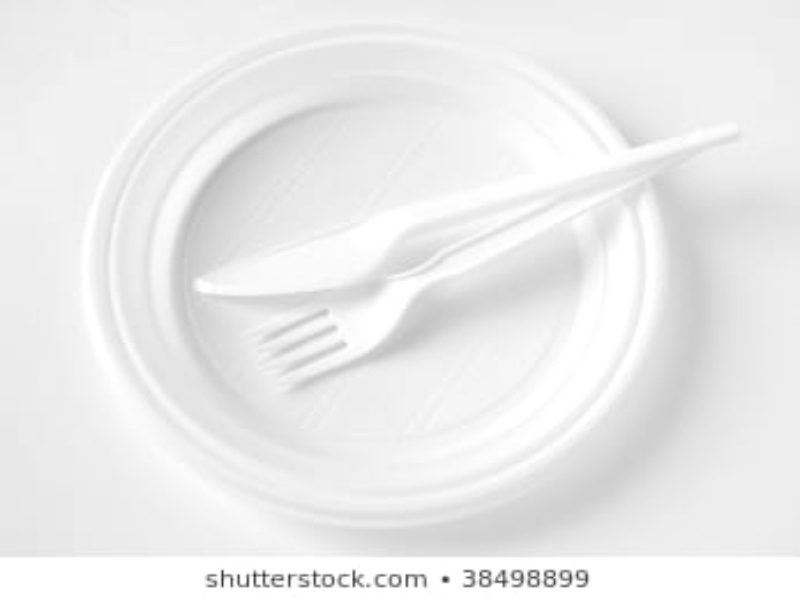plastic-plate: (80, 29, 665, 524)
plastic-silverware: (241, 132, 736, 394), (188, 122, 746, 296)
